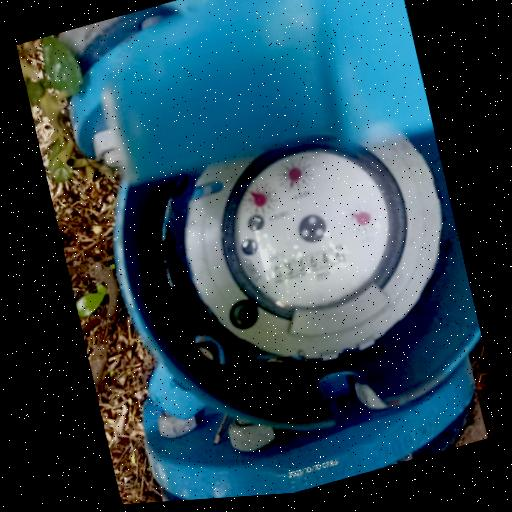0: (271, 263, 284, 281)
3: (294, 256, 309, 275), (282, 260, 296, 277)
4: (330, 244, 344, 264), (317, 248, 331, 267)
6: (305, 251, 320, 270)
border_water_meter_number: (268, 242, 346, 285)
